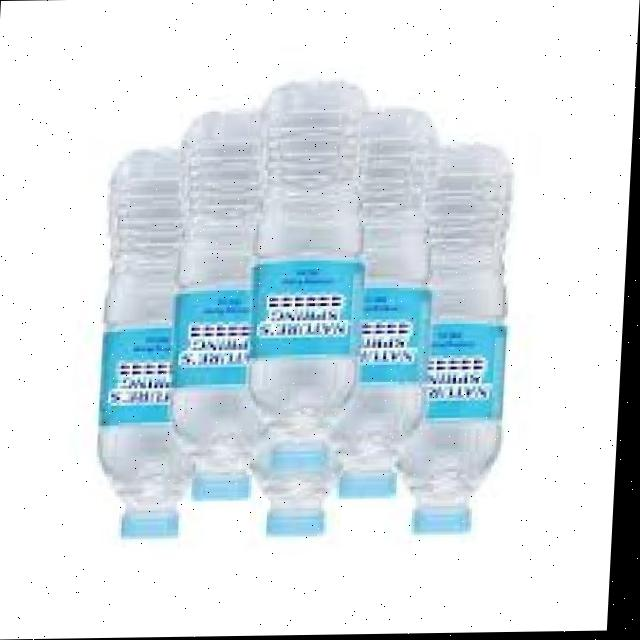bottle: (39, 66, 540, 564)
